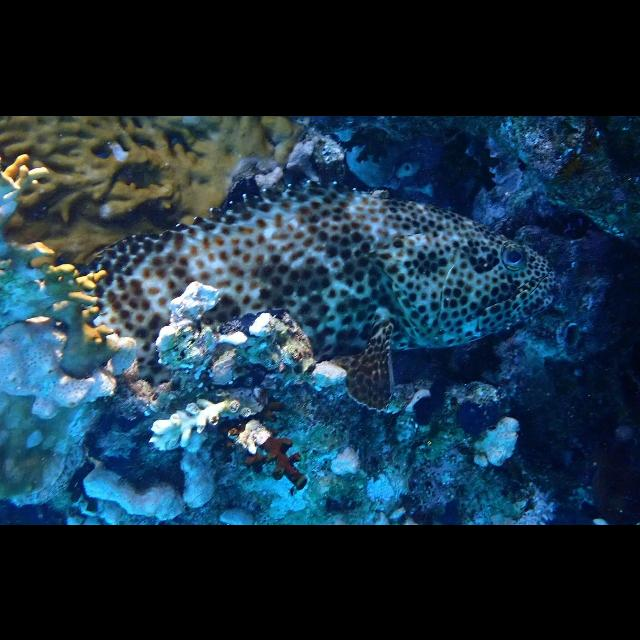Groupers: (73, 179, 559, 409)
